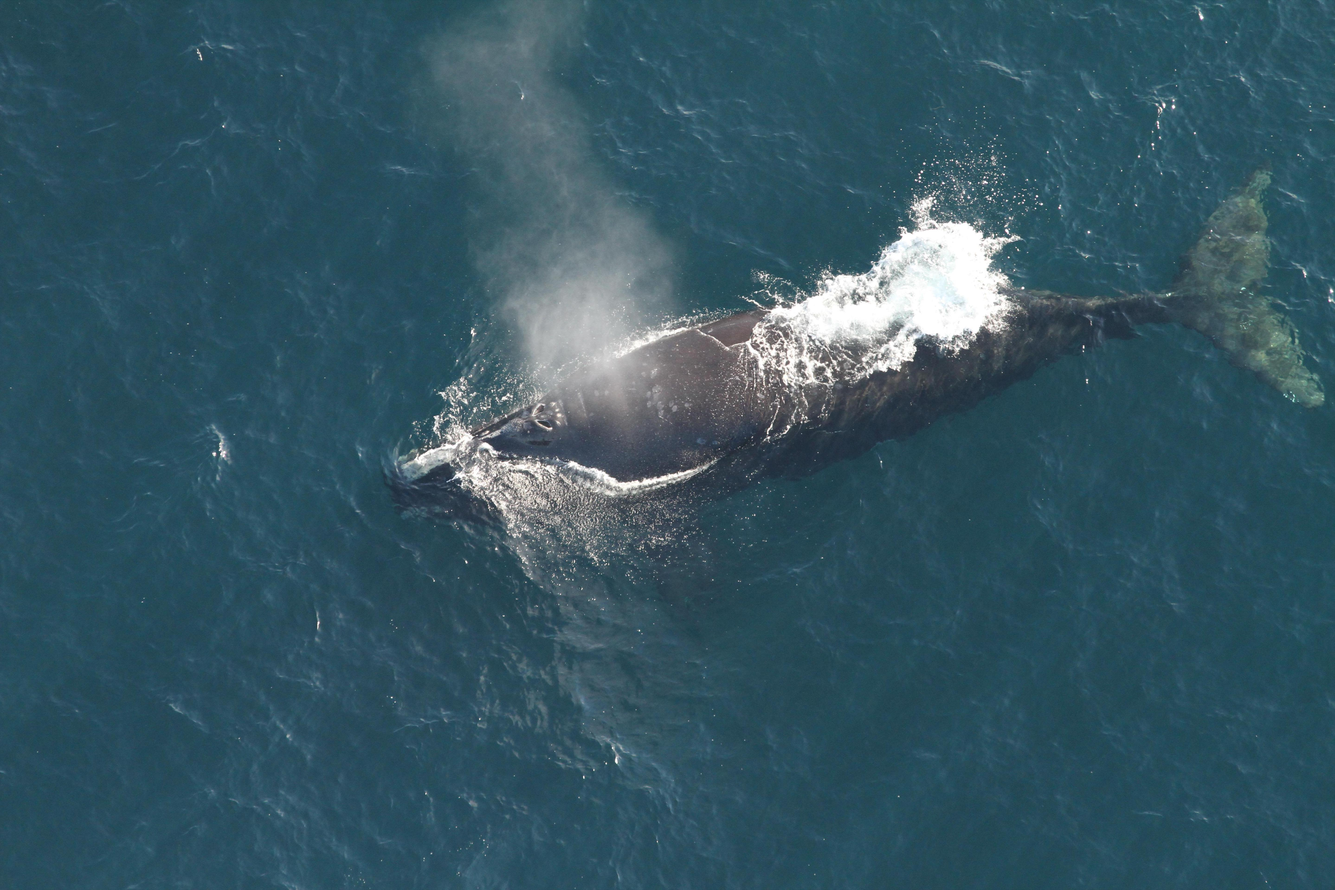whale: (376, 163, 1330, 540)
